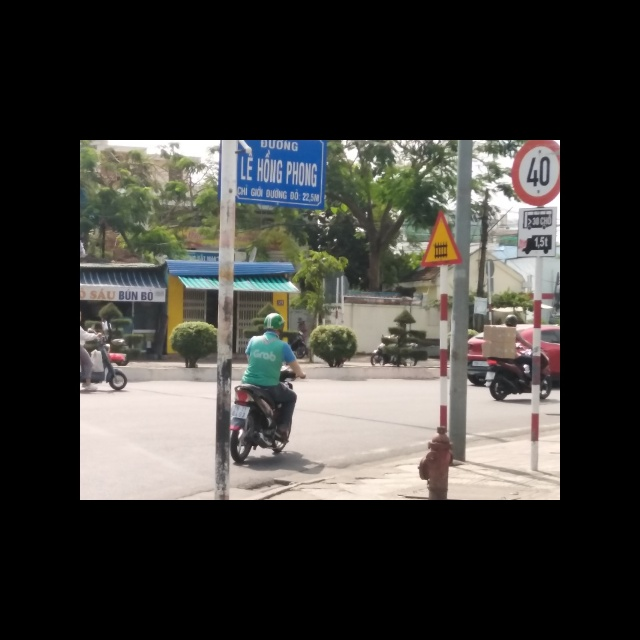Giao nhau với đường sắt có rào chắn: (418, 208, 461, 268)
Tốc độ tối đa cho phép 40km/h: (510, 140, 560, 206)
